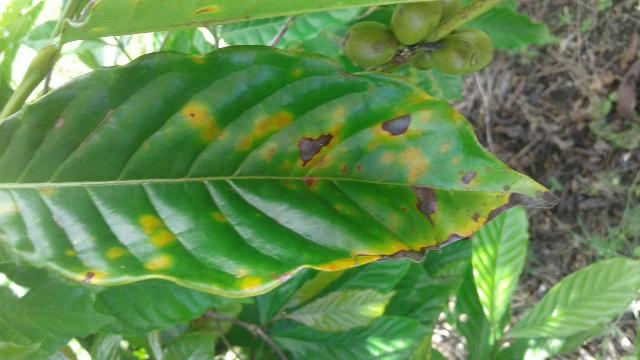rust_level_4: (0, 38, 568, 302)
